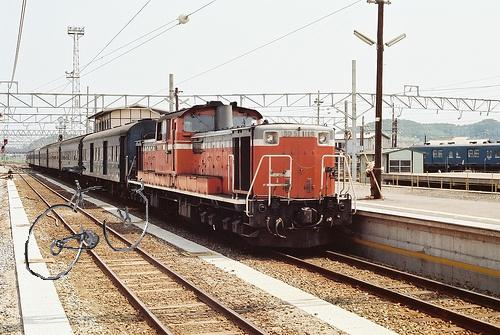tampered: (25, 167, 148, 280)
